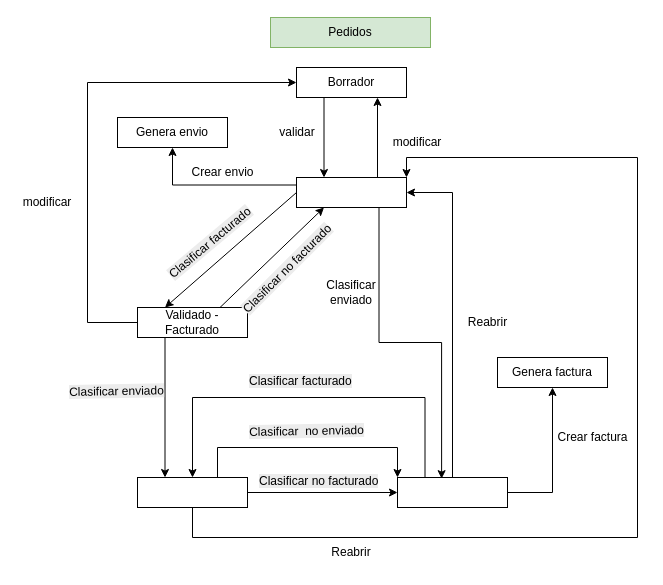
Some shapes in this 663 by 585 pixel diagram are drawn without their labels. Each missing label, with the box of its shape:
Emitido: (396, 476, 508, 508)
Procesado - Facturado: (136, 476, 248, 508)
Validado: (296, 176, 406, 208)
